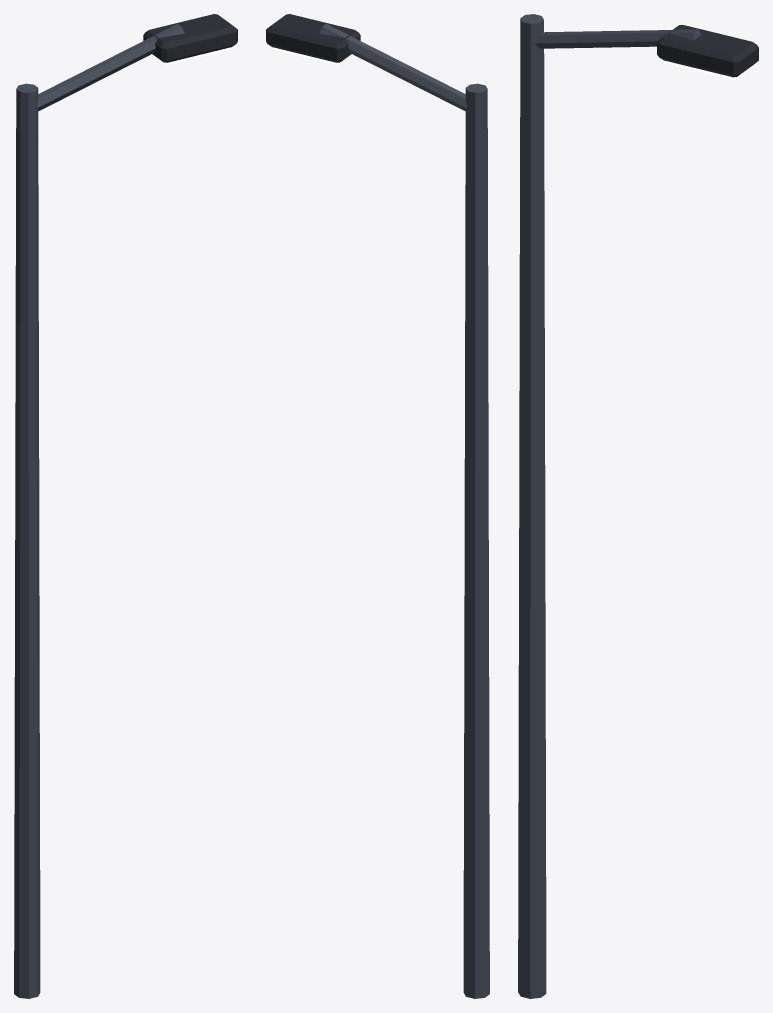
Rendered from street_lamp.glb.
The picture shows the model from 3 angles, left to right: view 1: azimuth 30°, elevation 25°; view 2: azimuth 150°, elevation 25°; view 3: azimuth 330°, elevation 25°; orthographic projection. The views are drawn at different scales.
Visible parts, largest first — view 1: street_lamp; view 2: street_lamp; view 3: street_lamp.
Boxes of the visible parts, bbox=[...] form: street_lamp: bbox=[14, 14, 237, 998]; street_lamp: bbox=[266, 14, 489, 998]; street_lamp: bbox=[518, 14, 758, 998].
Bounding box in the file's own units: 1.11 × 4.63 × 0.2.
